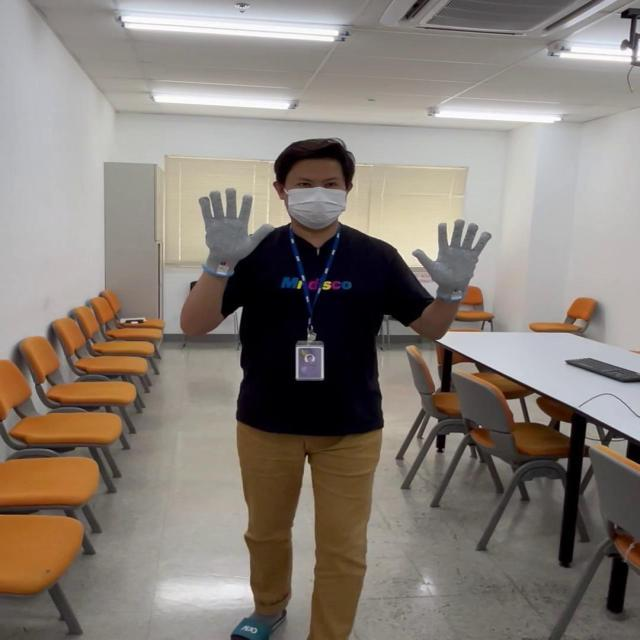gloved_hand: (398, 214, 488, 305), (199, 186, 274, 276)
